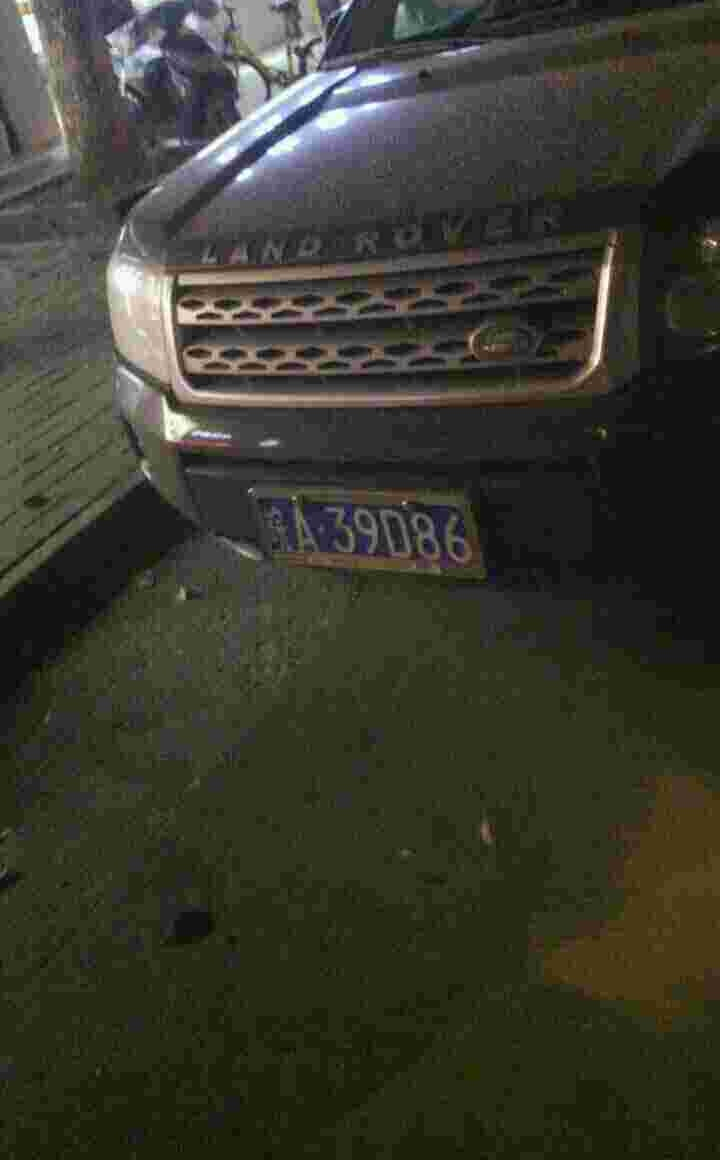car: (258, 491, 497, 579)
